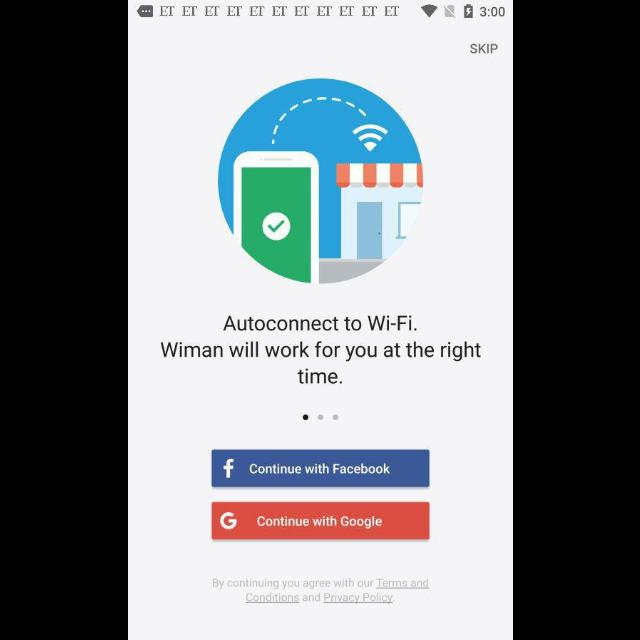image: (217, 79, 423, 285)
pageindicator: (302, 414, 340, 422)
text: (160, 315, 482, 385), (212, 578, 428, 604), (468, 44, 498, 54)
textbutton: (210, 502, 430, 540), (210, 449, 430, 486)
uppertaskbar: (128, 1, 512, 19)
